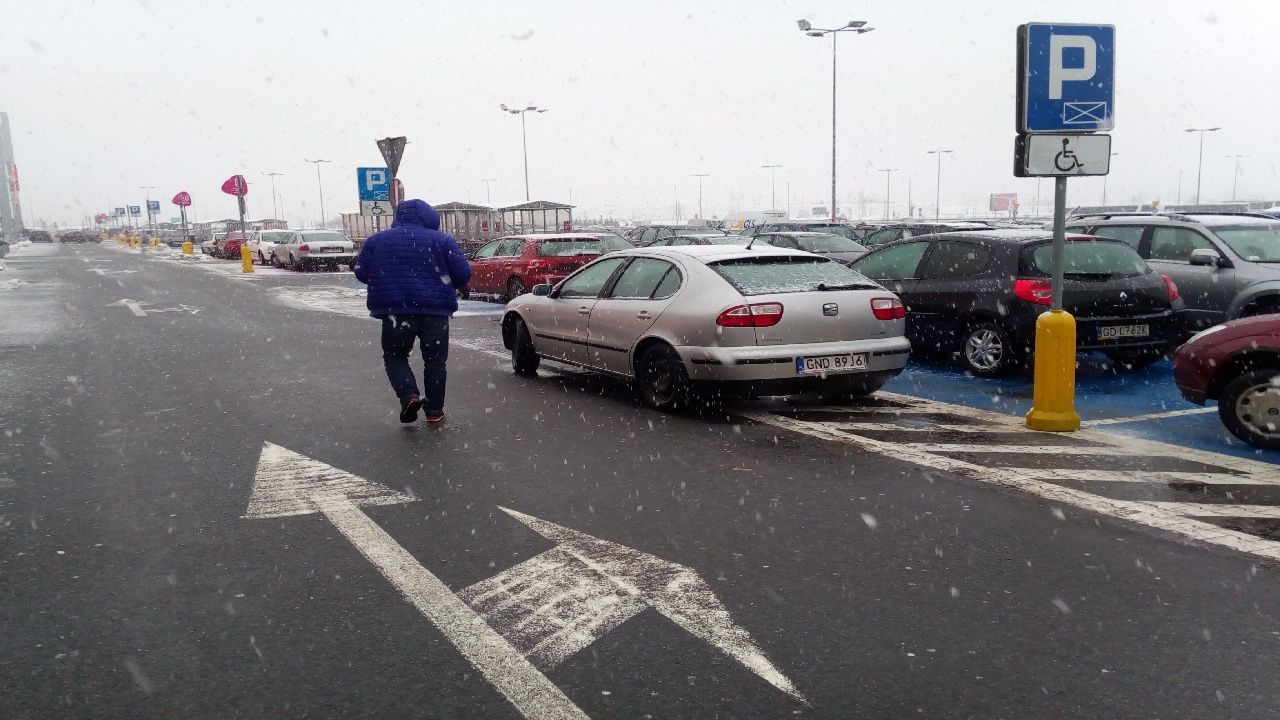D18: (1018, 24, 1114, 133), (358, 166, 390, 199)
